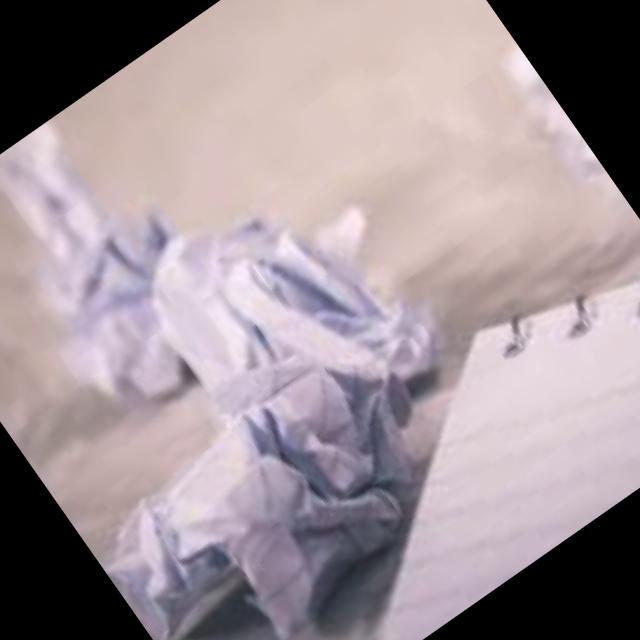KertasBekas: (0, 135, 541, 640)
